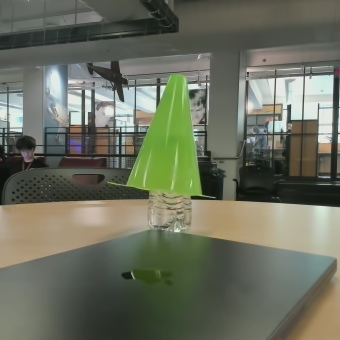Cone: (131, 66, 226, 183)
